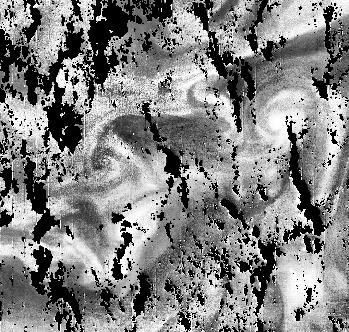CE: (237, 75, 319, 151), (70, 126, 144, 199)
